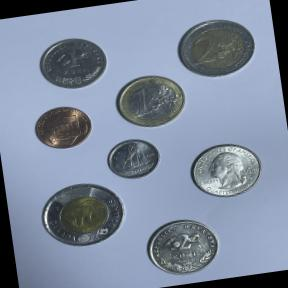1 Euro: (110, 70, 192, 132)
2 Euro: (171, 11, 262, 83)
Canda-10cent-: (102, 132, 166, 184)
Canda-2Dollar-: (33, 178, 130, 254)
Croatia-2Kune-: (140, 212, 226, 282)
US-1cent-: (28, 100, 99, 154)
US-25cent-: (184, 136, 268, 204)
